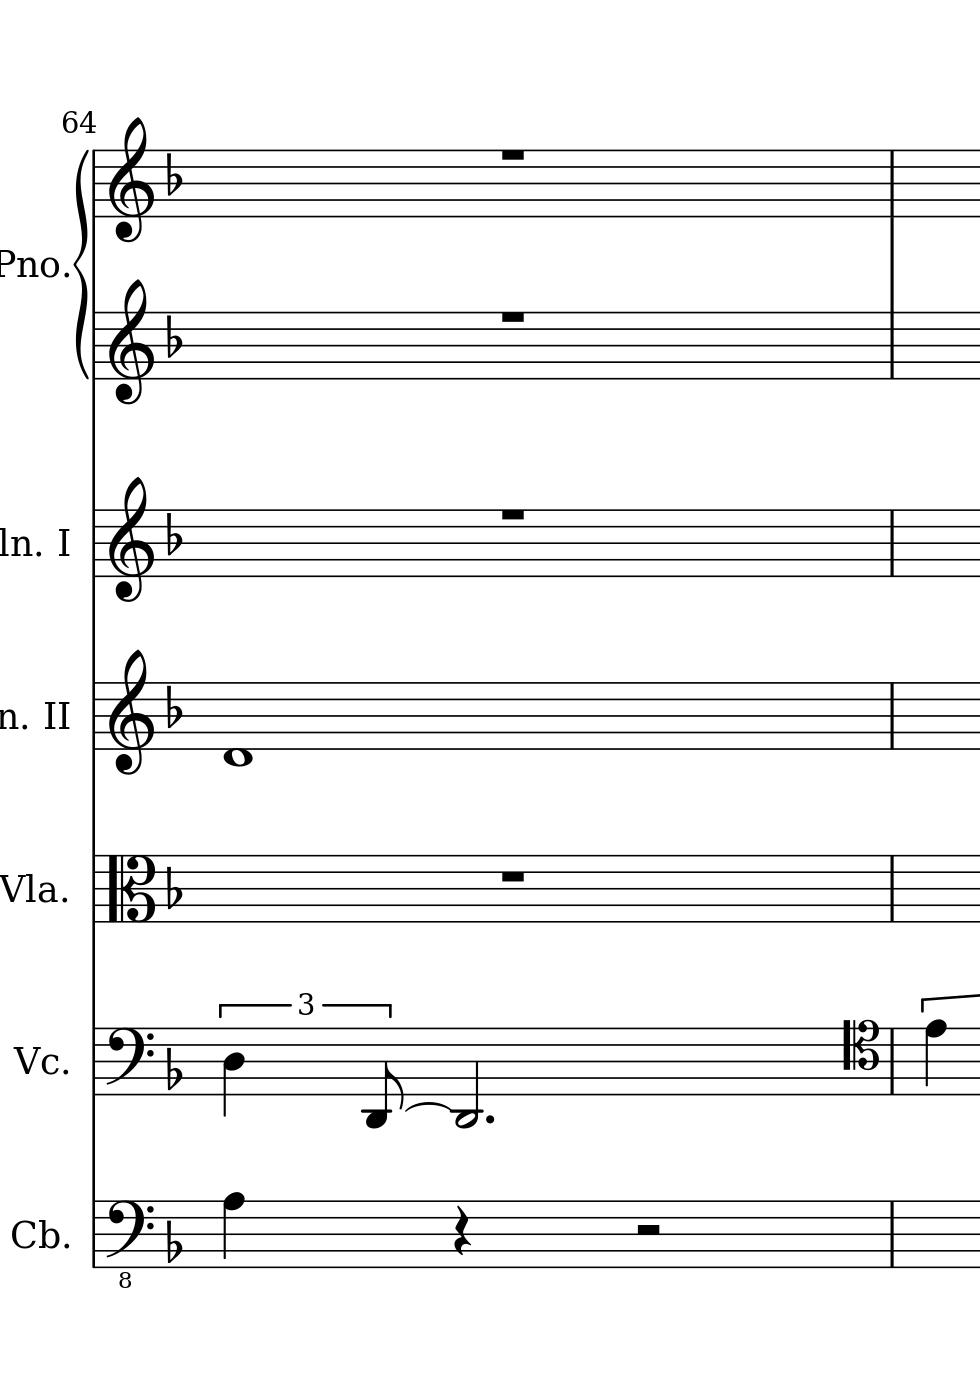1_-1: (221, 679, 255, 770)
2_-2: (450, 1025, 482, 1131)
3: (295, 989, 314, 1017)
4: (78, 109, 98, 136)
4_4: (220, 1027, 247, 1118)
4_8: (923, 1018, 948, 1096), (220, 1191, 244, 1270)
6: (62, 108, 78, 136)
8_-3: (361, 1025, 405, 1131)
Brace: (73, 147, 90, 378)
Cclef: (104, 853, 156, 924)
Fclef: (103, 1027, 154, 1098)
Flat: (163, 864, 188, 912), (163, 151, 183, 199), (163, 1043, 183, 1091), (163, 313, 183, 359), (163, 683, 183, 729), (163, 1218, 182, 1266), (163, 511, 182, 557)
Gclef: (105, 277, 156, 406), (105, 474, 156, 603), (105, 646, 154, 777), (106, 115, 155, 244)
Lower_Fclef: (104, 1195, 156, 1288)
Ob: (8, 1214, 60, 1255)
Pno: (1, 248, 58, 276)
Rests1: (496, 503, 528, 524), (496, 866, 529, 887), (497, 144, 528, 164), (497, 306, 528, 326)
Rests2: (633, 1222, 663, 1238)
Rests4: (451, 1204, 472, 1258)
Single_barline: (86, 683, 104, 751), (86, 855, 104, 923), (883, 150, 900, 217), (883, 1028, 900, 1095), (883, 855, 900, 922), (883, 1201, 900, 1268), (883, 510, 900, 576), (883, 683, 900, 749), (86, 1028, 102, 1096), (87, 510, 103, 578), (883, 312, 899, 378), (87, 150, 102, 217), (86, 1201, 101, 1267), (88, 312, 102, 380)
Slur: (401, 1099, 454, 1115)
Tensor_Cclef: (840, 1017, 879, 1095)
Vc: (14, 1043, 57, 1076)
Vla: (1, 869, 60, 913)
dot: (483, 1111, 496, 1127)
